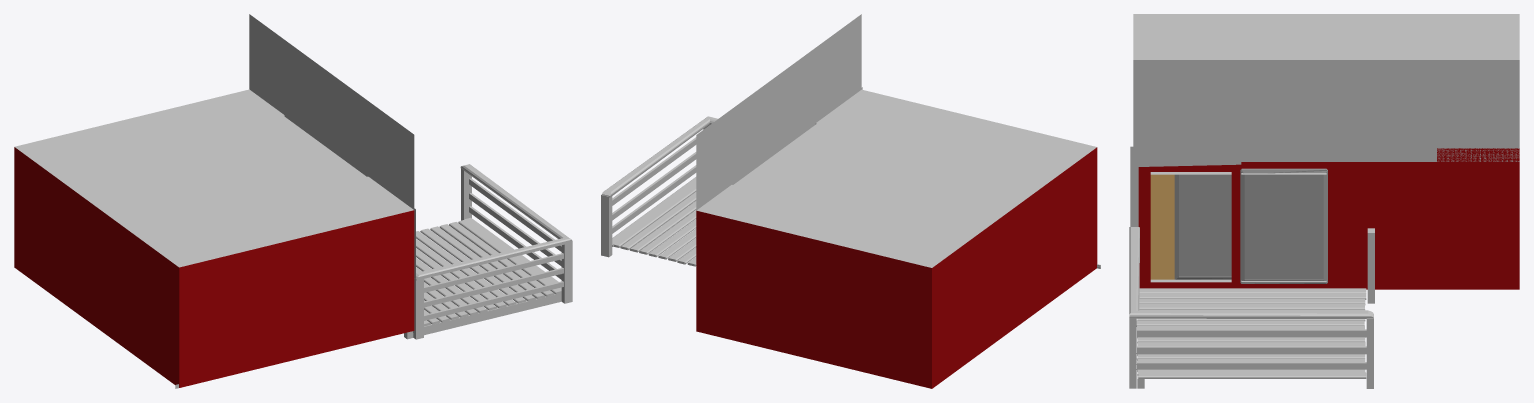
Rendered from world.obj.
3 views of the same model, side by side, from view 1: azimuth 30°, elevation 25°; view 2: azimuth 150°, elevation 25°; view 3: azimuth 270°, elevation 25° (orthographic). The views are drawn at different scales.
Visible parts, largest first — view 1: Room_Cube.001, Cube.015_Cube.005, Cube.028_Cube.002, Cube.029_Cube.008, Cube.026_Cube.009, Cube.023_Cube.009, Cube.022_Cube.009, Cube.030_Cube.004, Cube.017_Cube.004, Cube.014_Cube.004, Cube.013_Cube.004, Cube.025_Cube.010 (+9 smaller); view 2: Room_Cube.001, Cube.029_Cube.008, Cube.031_Cube.004, Cube.020_Cube.006, Cube.017_Cube.004, Cube.025_Cube.010, Cube.024_Cube.010, Cube.027_Cube.010, Cube.030_Cube.004, Cube.018_Cube.004, Cube.014_Cube.004, Cube.013_Cube.004; view 3: Room_Cube.001, Cube.002_Cube.003, Cube.001_Cube.003, StoppingWeirdLight_Plane.002, Cube.029_Cube.008, Cube.027_Cube.010, Cube.025_Cube.010, Cube.024_Cube.010, Cube.018_Cube.004, Cube.008_Cube.004, Cube.003_Cube.004, Cube_Cube.004 (+14 smaller).
Boxes of the visible parts, <box> form: Room_Cube.001: <box>14,14,414,387</box>; Cube.015_Cube.005: <box>404,293,561,339</box>; Cube.028_Cube.002: <box>414,238,572,280</box>; Cube.029_Cube.008: <box>460,164,571,239</box>; Cube.026_Cube.009: <box>424,267,563,307</box>; Cube.023_Cube.009: <box>424,281,563,320</box>; Cube.022_Cube.009: <box>424,253,563,292</box>; Cube.030_Cube.004: <box>439,224,545,298</box>; Cube.017_Cube.004: <box>449,222,554,296</box>; Cube.014_Cube.004: <box>430,226,535,301</box>; Cube.013_Cube.004: <box>420,228,525,303</box>; Cube.025_Cube.010: <box>469,178,561,251</box>; Room_Cube.001: <box>696,14,1097,388</box>; Cube.029_Cube.008: <box>602,116,709,197</box>; Cube.031_Cube.004: <box>613,183,696,247</box>; Cube.020_Cube.006: <box>601,194,612,257</box>; Cube.017_Cube.004: <box>620,191,696,250</box>; Cube.025_Cube.010: <box>612,137,696,205</box>; Cube.024_Cube.010: <box>612,165,696,233</box>; Cube.027_Cube.010: <box>612,152,696,220</box>; Cube.030_Cube.004: <box>629,201,696,252</box>; Cube.018_Cube.004: <box>612,177,696,246</box>; Cube.014_Cube.004: <box>639,210,696,254</box>; Cube.013_Cube.004: <box>648,219,696,257</box>; Room_Cube.001: <box>1133,14,1519,289</box>; Cube.002_Cube.003: <box>1240,168,1327,283</box>; Cube.001_Cube.003: <box>1174,174,1231,279</box>; StoppingWeirdLight_Plane.002: <box>1130,144,1241,226</box>; Cube.029_Cube.008: <box>1129,310,1373,318</box>; Cube.027_Cube.010: <box>1137,346,1366,354</box>; Cube.025_Cube.010: <box>1137,329,1366,337</box>; Cube.024_Cube.010: <box>1137,362,1366,369</box>; Cube.018_Cube.004: <box>1138,372,1366,378</box>; Cube.008_Cube.004: <box>1136,320,1364,325</box>; Cube.003_Cube.004: <box>1139,293,1366,299</box>; Cube_Cube.004: <box>1139,288,1366,293</box>.
Size of the model in its own units: 47.96 by 23.66 by 34.96.
